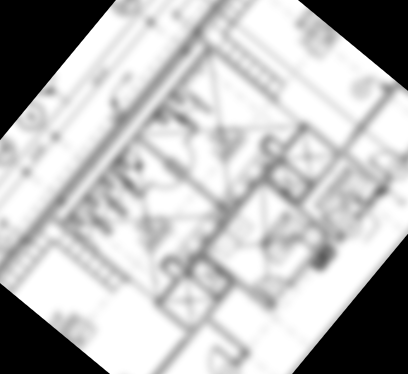door: (363, 137, 408, 182), (317, 195, 359, 237), (147, 161, 185, 200), (166, 137, 205, 175), (195, 342, 240, 374), (109, 182, 145, 217), (179, 97, 213, 132), (78, 218, 112, 250), (95, 200, 127, 233)
wall: (22, 32, 204, 250), (294, 81, 403, 210), (197, 141, 294, 254), (134, 278, 239, 374), (132, 131, 233, 217), (49, 212, 134, 285), (197, 33, 282, 106), (198, 248, 279, 318), (338, 148, 385, 189), (151, 297, 195, 337), (299, 118, 343, 157), (401, 114, 408, 166)
